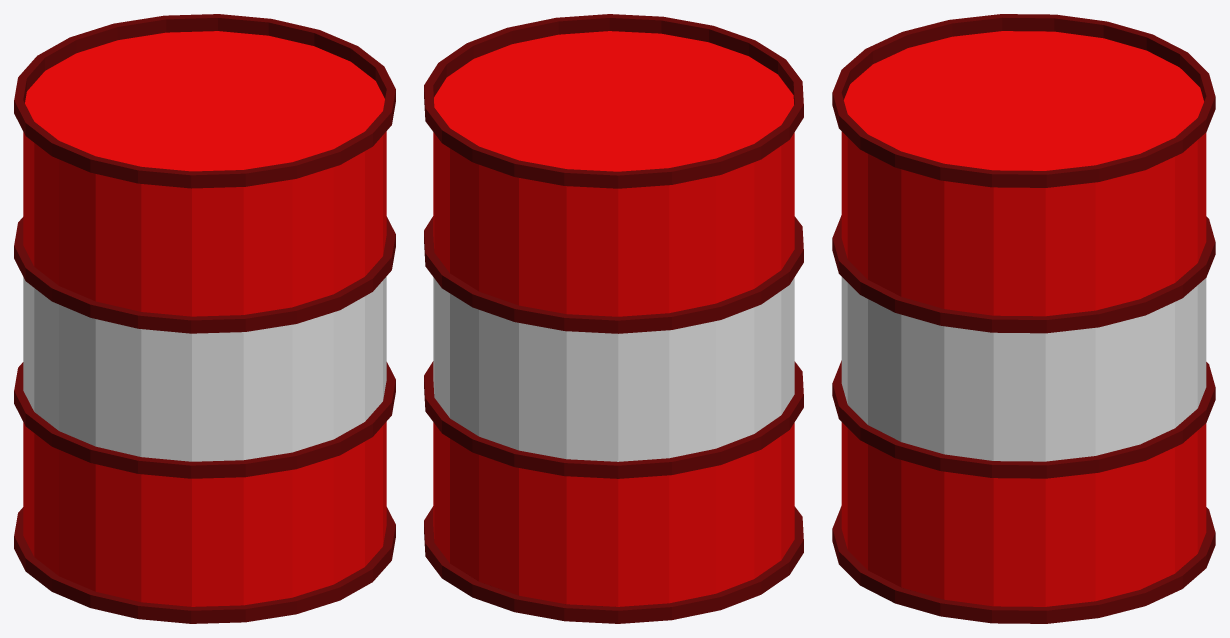
The model's file is Barrel.glb.
3 renders of one model, left to right at view 1: azimuth 30°, elevation 25°; view 2: azimuth 150°, elevation 25°; view 3: azimuth 270°, elevation 25°, orthographic.
Parts seen in each view (by area): view 1: Barrel; view 2: Barrel; view 3: Barrel.
Part boxes in pixels (x1=…): Barrel: x1=14, y1=14, x2=395, y2=623; Barrel: x1=424, y1=14, x2=803, y2=623; Barrel: x1=832, y1=14, x2=1215, y2=623.
Bounding box in the file's own units: 2.09 × 2.72 × 2.1.
